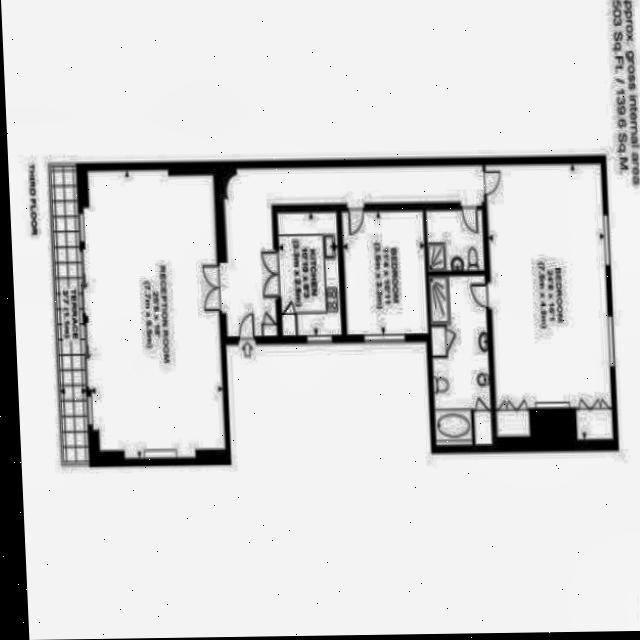room: (222, 164, 486, 336), (81, 166, 224, 462), (485, 161, 611, 443), (50, 166, 87, 463), (341, 209, 426, 337), (429, 274, 491, 447), (276, 211, 340, 338), (426, 209, 483, 272)
